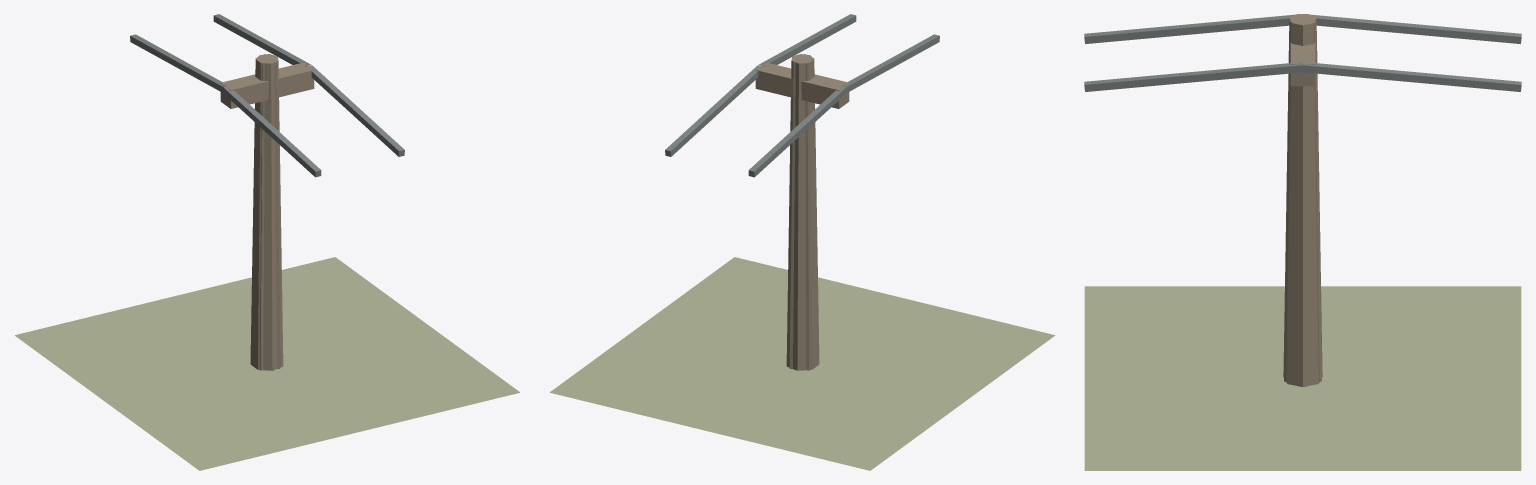
The picture shows the model from 3 angles, left to right: view 1: azimuth 30°, elevation 25°; view 2: azimuth 150°, elevation 25°; view 3: azimuth 270°, elevation 25°; orthographic projection. The views are drawn at different scales.
Parts seen in each view (by area): view 1: Near, Far; view 2: Near, Far; view 3: Near, Far.
Part boxes in pixels (<box>): Near: <box>15,14,519,470</box>; Far: <box>255,54,280,370</box>; Near: <box>550,14,1054,470</box>; Far: <box>789,54,814,370</box>; Near: <box>1084,14,1521,470</box>; Far: <box>1284,14,1321,381</box>.
Size of the model in its own units: 1 by 0.91 by 1.
